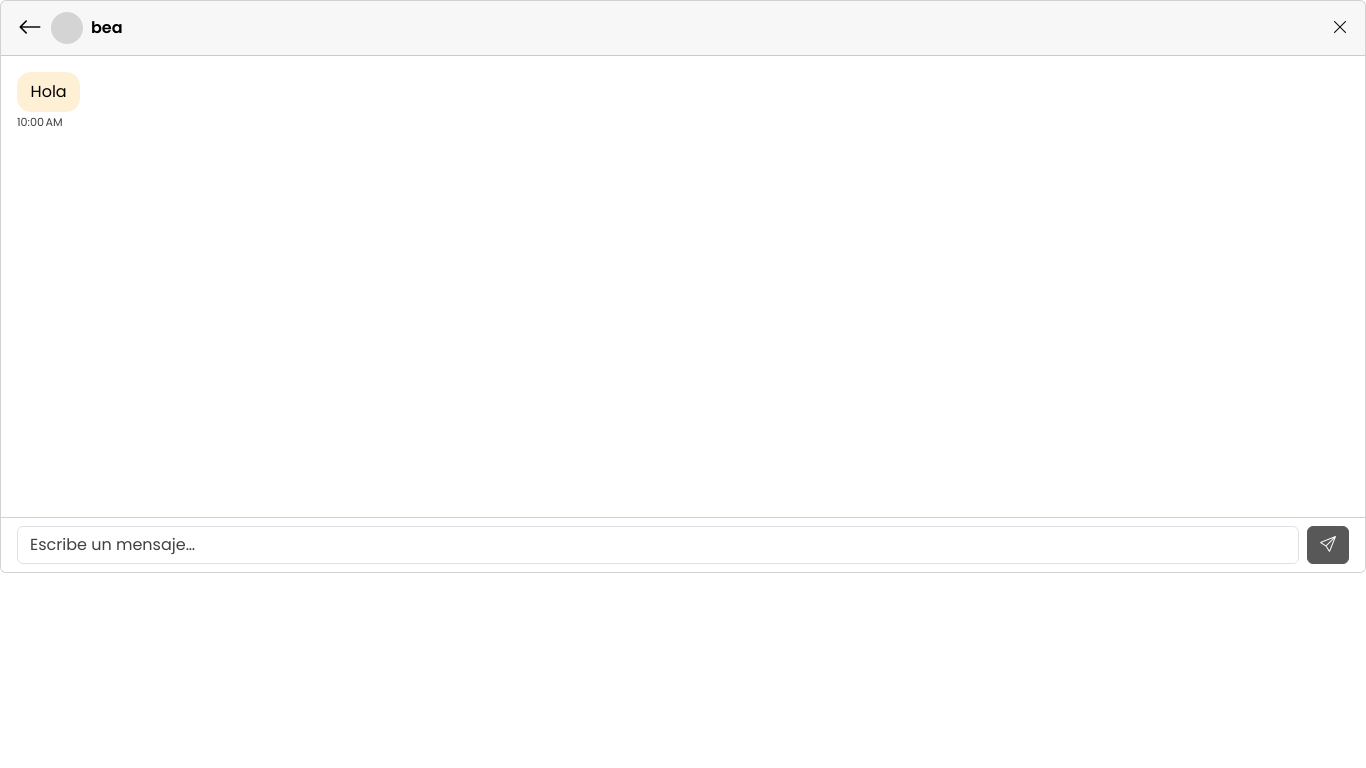
Scenario: ChatConversationComponent — mensajes (tarea 17b.3) › envía un mensaje nuevo con el campo de texto del card-footer y limpia el campo
Type "Mensaje nuevo" into the field with placeholder "Escribe un mensaje…" at (658, 545), box [17,526,1299,564]
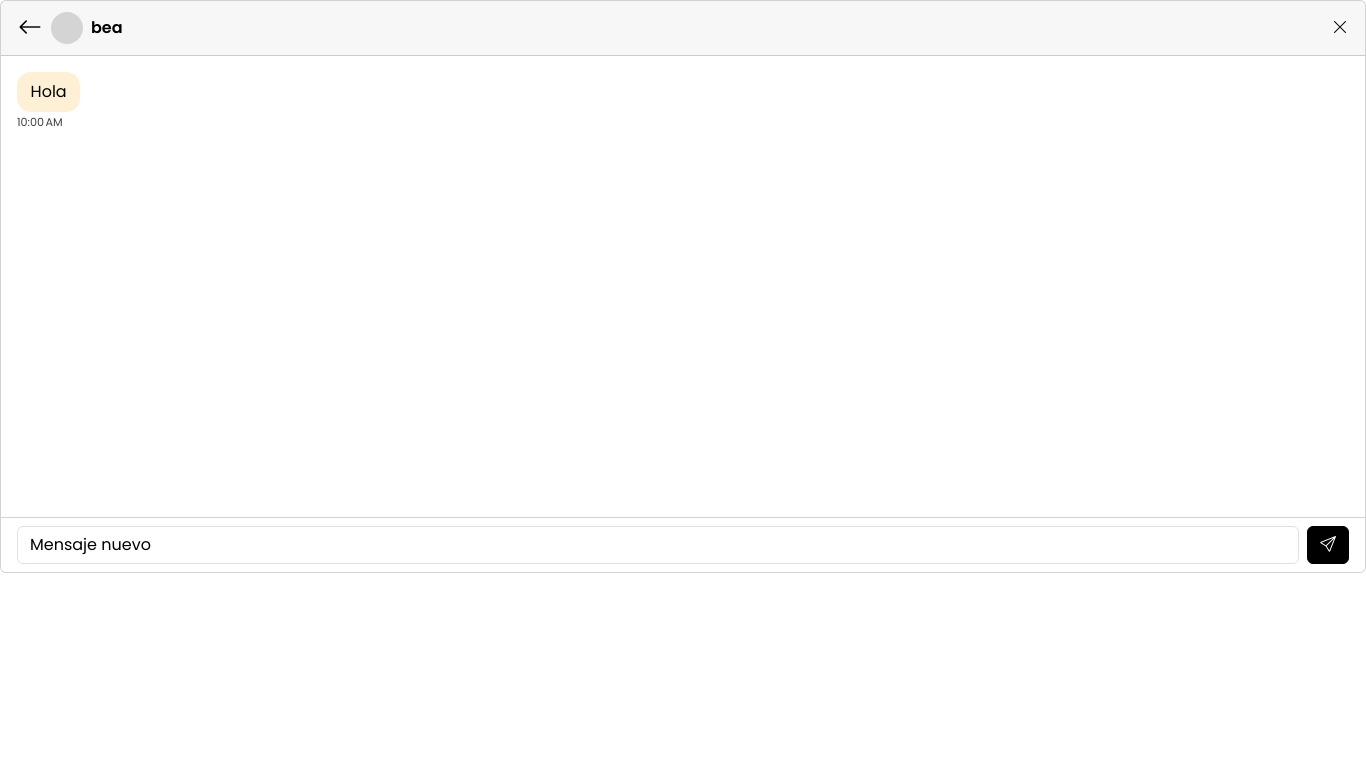
Click the 3rd button at (1328, 545), box [1307,526,1349,564]
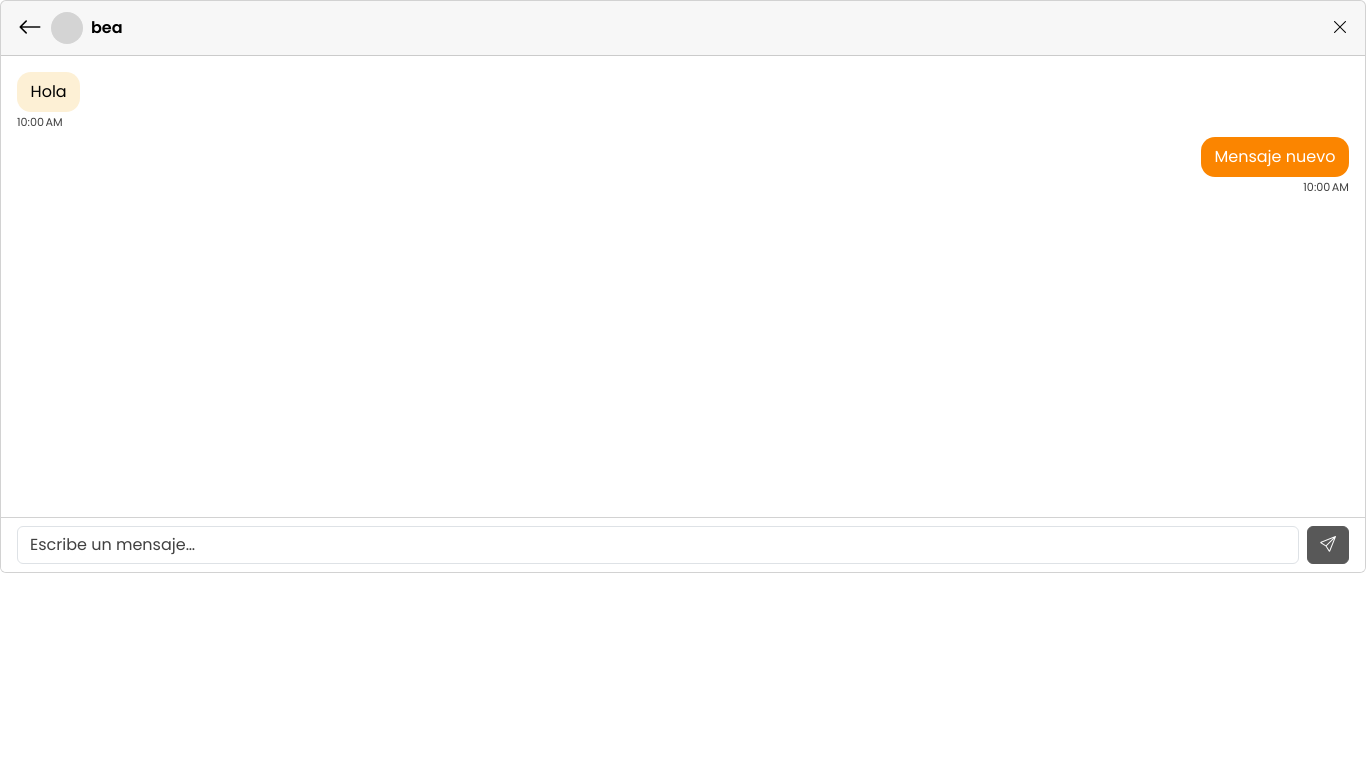
Now the text "Mensaje nuevo" is shown, box [1201,137,1349,177]
Now the field with placeholder "Escribe un mensaje…" is empty, box [17,526,1299,564]
